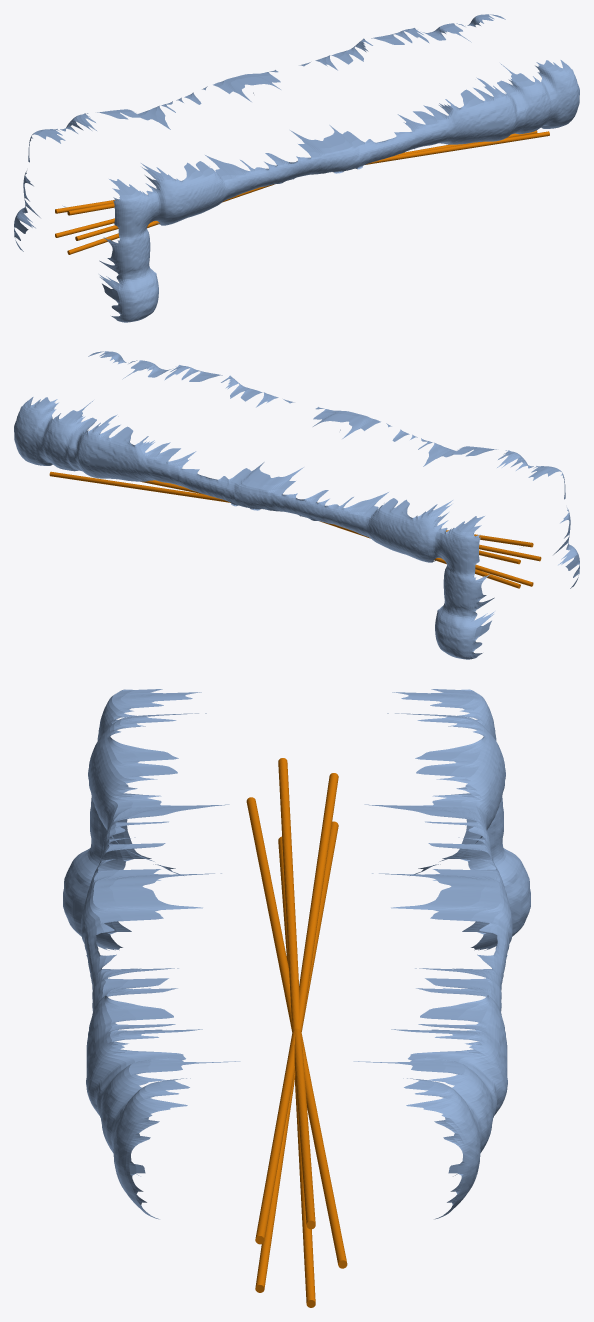
File: 50073721_5995-37-501-9359_DigitalTwin.glb
The picture shows the model from 3 angles, top to bottom: view 1: azimuth 30°, elevation 25°; view 2: azimuth 150°, elevation 25°; view 3: azimuth 270°, elevation 25°; orthographic projection. The views are drawn at different scales.
Visible parts, largest first — view 1: world; view 2: world; view 3: world.
Boxes of the visible parts, x1=… form: world: x1=14, y1=14, x2=579, y2=322; world: x1=14, y1=351, x2=579, y2=659; world: x1=63, y1=689, x2=530, y2=1307.
Size of the model in its own units: 476 by 132 by 203.
